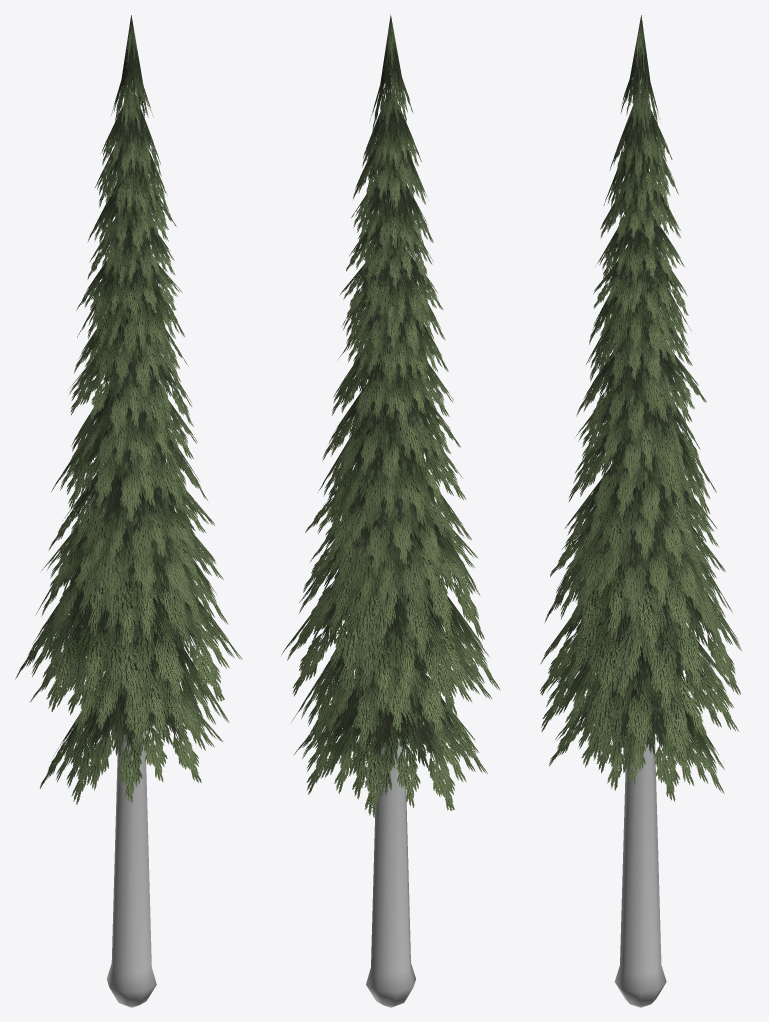
File: Pine_09.fbx
3 views of the same model, side by side, from view 1: azimuth 30°, elevation 25°; view 2: azimuth 150°, elevation 25°; view 3: azimuth 270°, elevation 25° (orthographic).
Visible parts, largest first — view 1: polySurface23; view 2: polySurface23; view 3: polySurface23.
Boxes of the visible parts, bbox=[...] form: polySurface23: bbox=[15, 15, 242, 1007]; polySurface23: bbox=[281, 14, 500, 1007]; polySurface23: bbox=[540, 15, 741, 1007].
Bounding box in the file's own units: 3.72 × 17.62 × 3.58.
